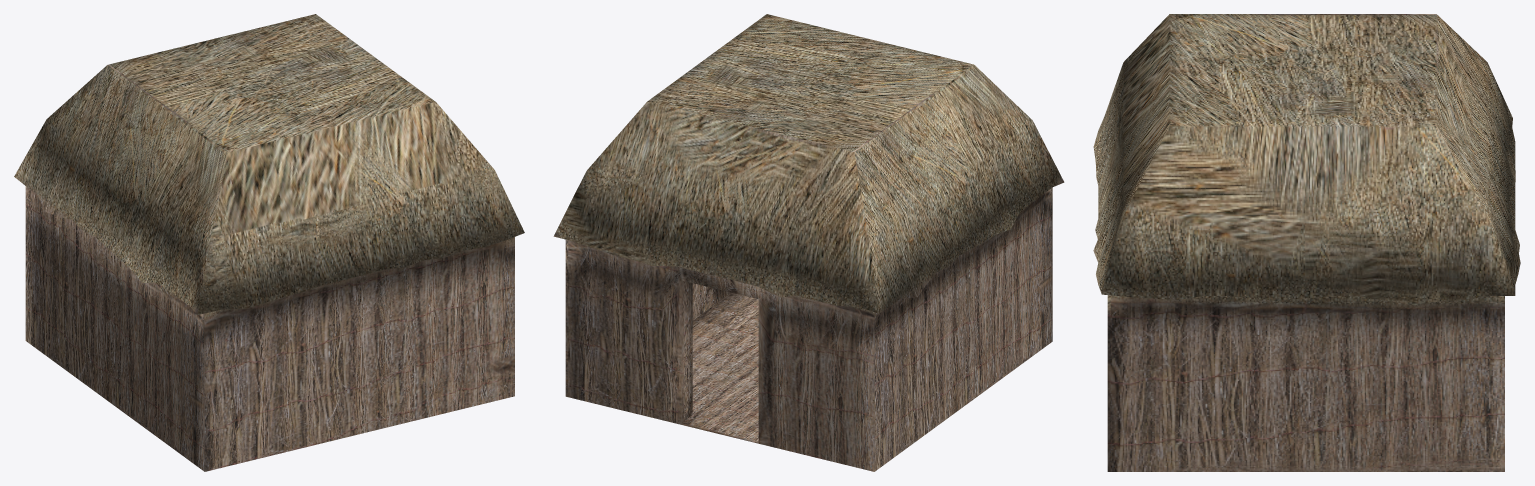
File: Hut_0.fbx
The picture shows the model from 3 angles, left to right: view 1: azimuth 30°, elevation 25°; view 2: azimuth 150°, elevation 25°; view 3: azimuth 270°, elevation 25°; orthographic projection. The views are drawn at different scales.
Parts seen in each view (by area): view 1: Plane; view 2: Plane; view 3: Plane.
Part boxes in pixels (x1,y1,x2,y2): Plane: [14, 14, 524, 471]; Plane: [553, 14, 1064, 471]; Plane: [1093, 14, 1520, 471].
Bounding box in the file's own units: 215 × 176 × 215.
